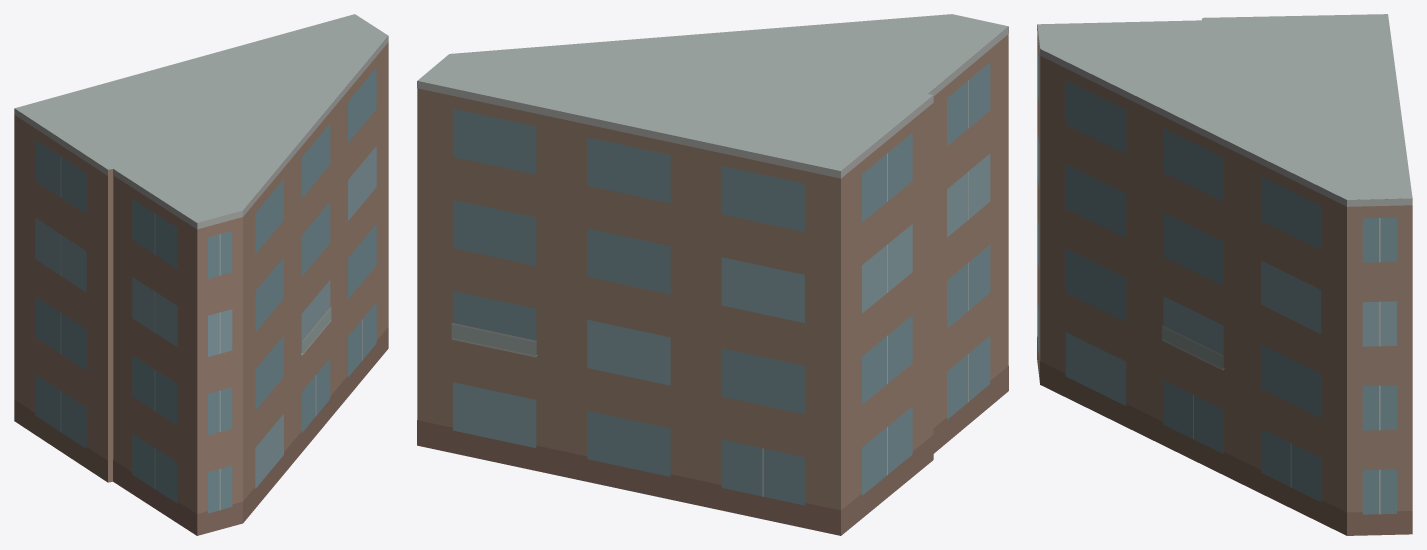
Rendered from survey-upis-33040186.glb.
3 renders of one model, left to right at view 1: azimuth 30°, elevation 25°; view 2: azimuth 150°, elevation 25°; view 3: azimuth 270°, elevation 25°, orthographic. The views are drawn at different scales.
Parts seen in each view (by area): view 1: survey-upis-33040186.tmp; view 2: survey-upis-33040186.tmp; view 3: survey-upis-33040186.tmp.
Boxes of the visible parts, <box> form: survey-upis-33040186.tmp: <box>14,14,388,535</box>; survey-upis-33040186.tmp: <box>417,14,1008,535</box>; survey-upis-33040186.tmp: <box>1037,14,1412,535</box>.
Size of the model in its own units: 14.26 by 12 by 12.17.
